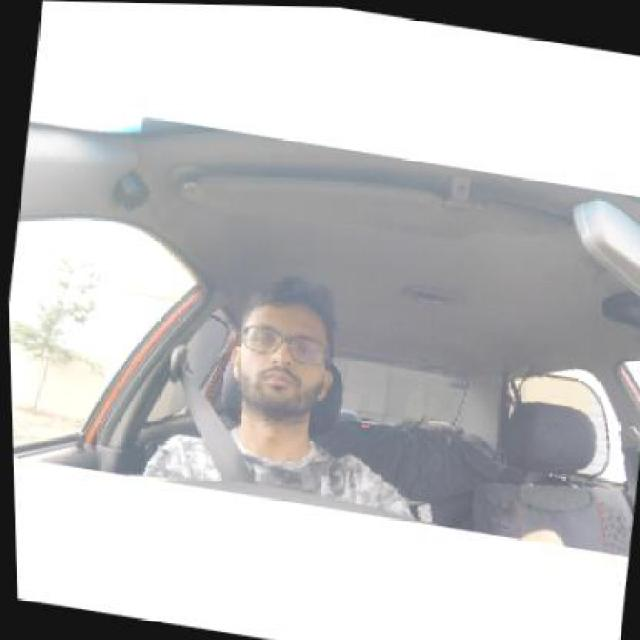person: (220, 276, 362, 432)
